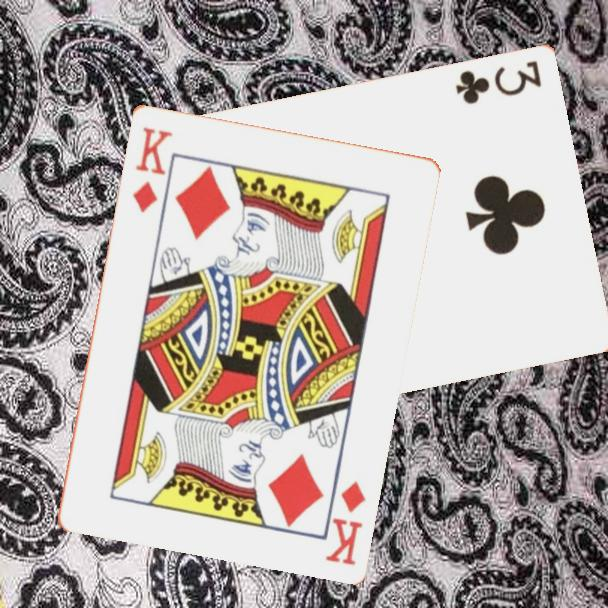c03: (452, 56, 545, 107)
d13: (321, 477, 368, 568), (129, 123, 175, 215)
